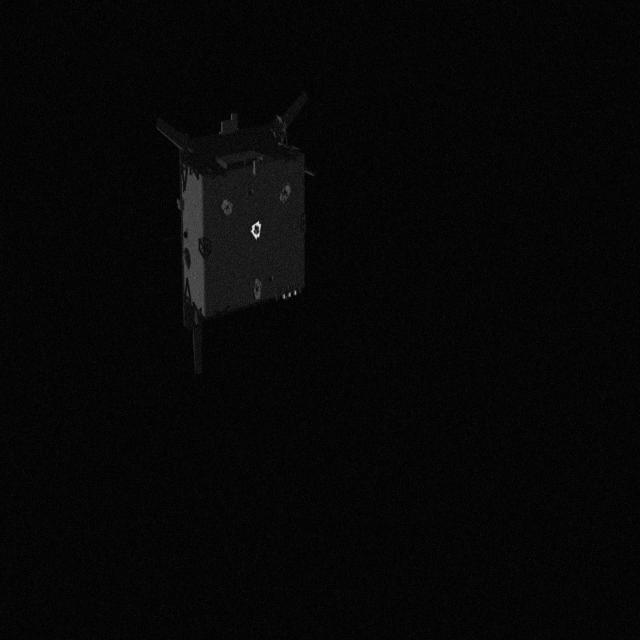medium_debris: (142, 96, 330, 386)
